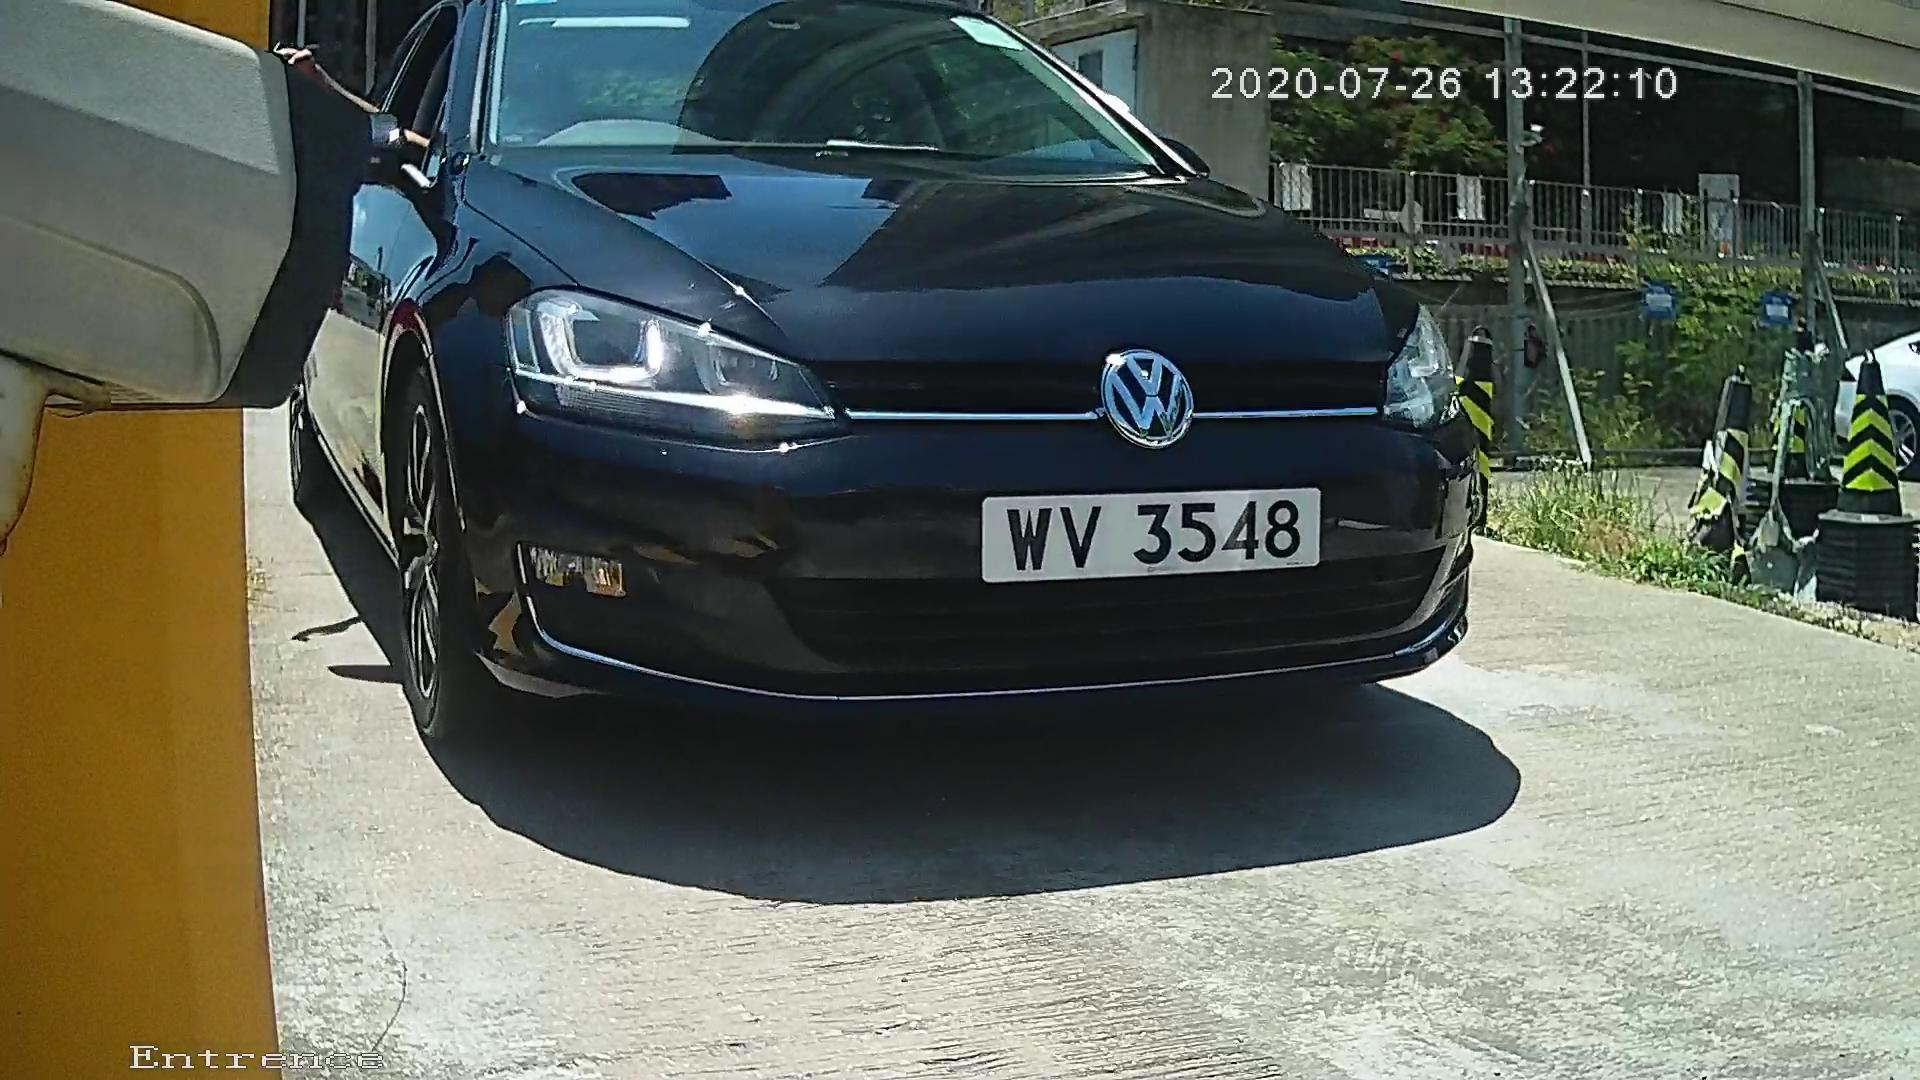privatecar: (301, 29, 1509, 796)
